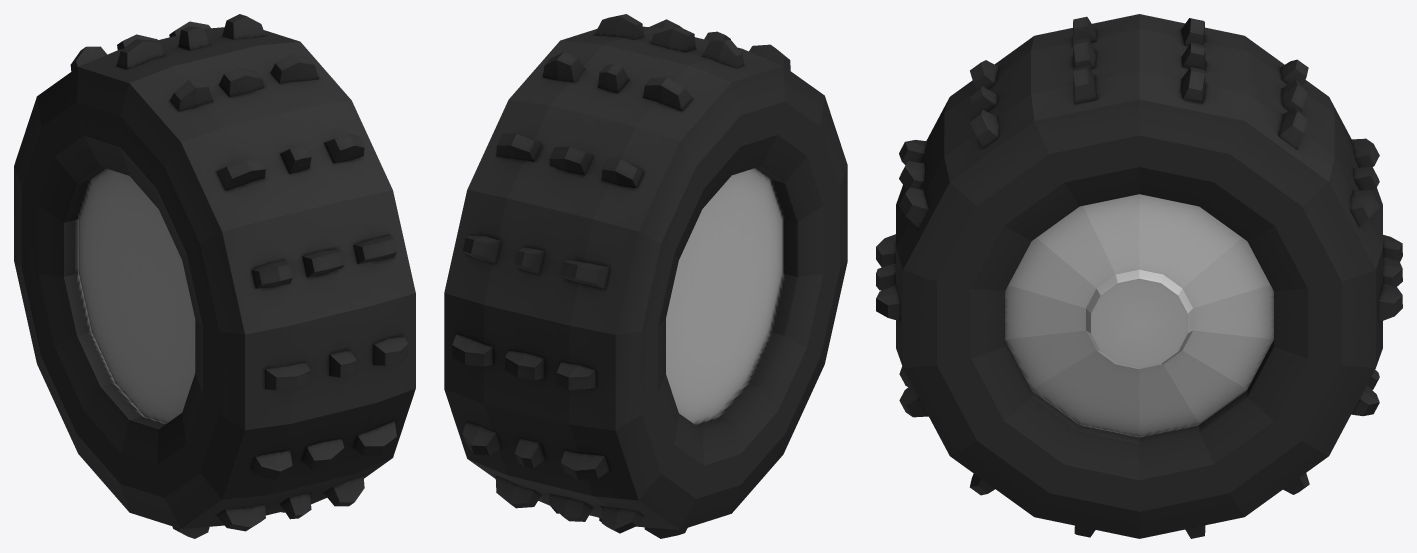
The model's file is RightJeepWheel.fbx.
The picture shows the model from 3 angles, left to right: view 1: azimuth 30°, elevation 25°; view 2: azimuth 150°, elevation 25°; view 3: azimuth 270°, elevation 25°; orthographic projection. The views are drawn at different scales.
Parts seen in each view (by area): view 1: jeep_w1.L; view 2: jeep_w1.L; view 3: jeep_w1.L.
Part boxes in pixels (bbox=[...]): jeep_w1.L: bbox=[14, 14, 415, 538]; jeep_w1.L: bbox=[444, 14, 847, 538]; jeep_w1.L: bbox=[876, 14, 1402, 538].
Size of the model in its own units: 32.53 by 75.34 by 76.78.
